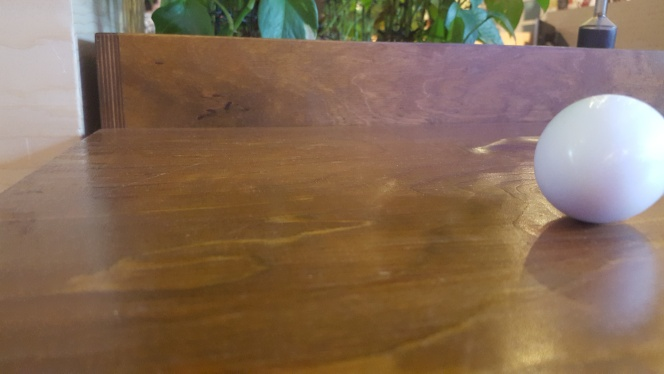egg: (536, 93, 664, 226)
